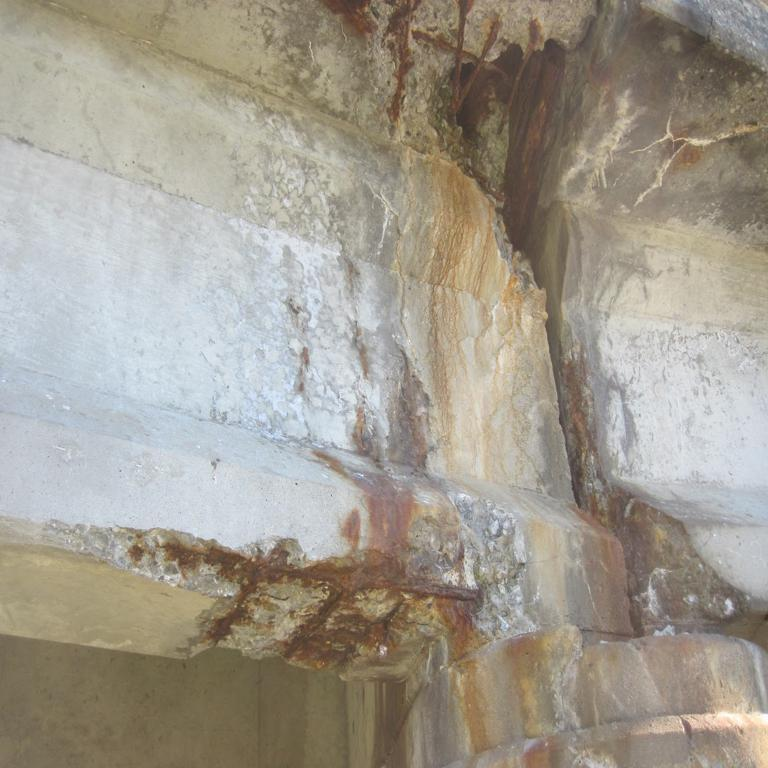exposed_rebar: (154, 530, 477, 601), (412, 0, 501, 113), (288, 594, 338, 655), (208, 582, 256, 644)
spalling: (0, 482, 540, 678), (323, 0, 598, 206)
